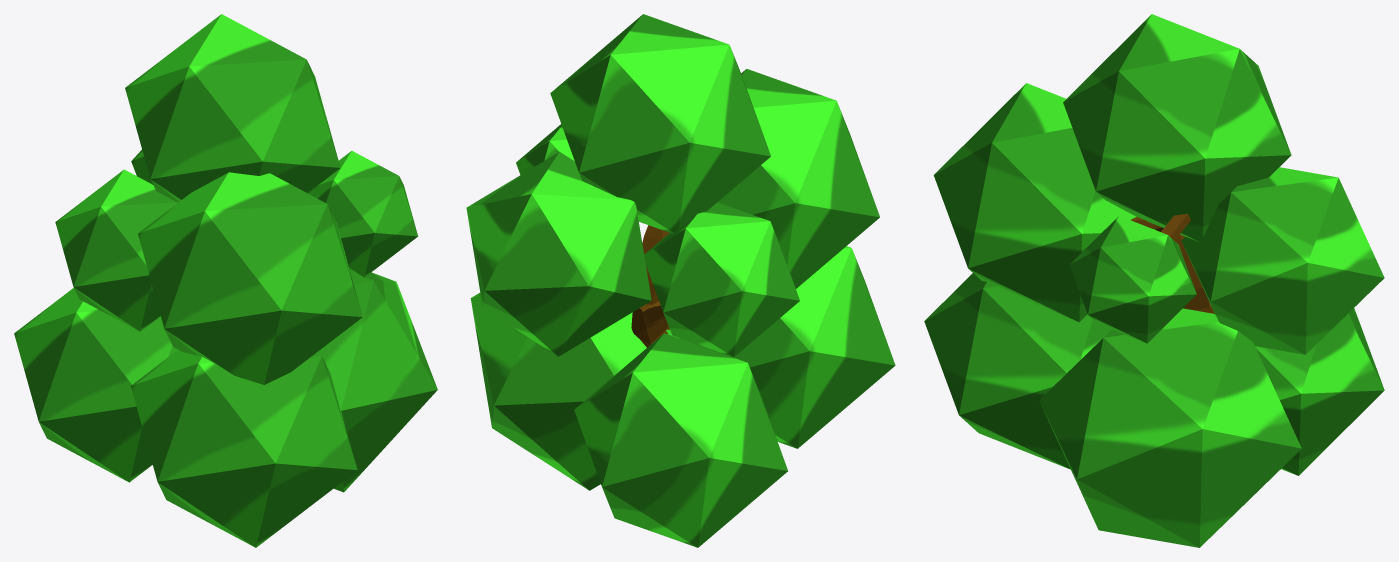
Rendered from busch1.fbx.
3 renders of one model, left to right at view 1: azimuth 30°, elevation 25°; view 2: azimuth 150°, elevation 25°; view 3: azimuth 270°, elevation 25°, orthographic. The views are drawn at different scales.
Parts seen in each view (by area): view 1: blätter_busch; view 2: blätter_busch, stamm.001; view 3: blätter_busch, stamm.001.
Boxes of the visible parts, <box> form: blätter_busch: <box>14,14,437,547</box>; blätter_busch: <box>466,14,895,547</box>; stamm.001: <box>631,225,669,347</box>; blätter_busch: <box>924,14,1384,547</box>; stamm.001: <box>1130,214,1214,313</box>.
Size of the model in its own units: 140 by 176 by 162.
